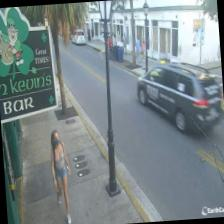person: (48, 128, 74, 224)
